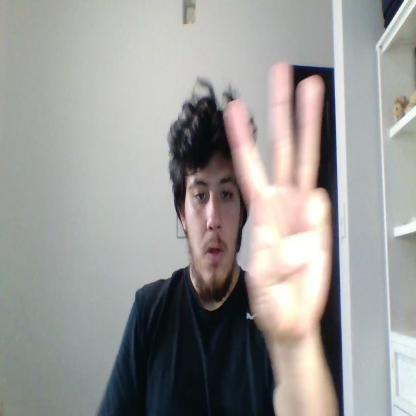W: (222, 61, 333, 336)
